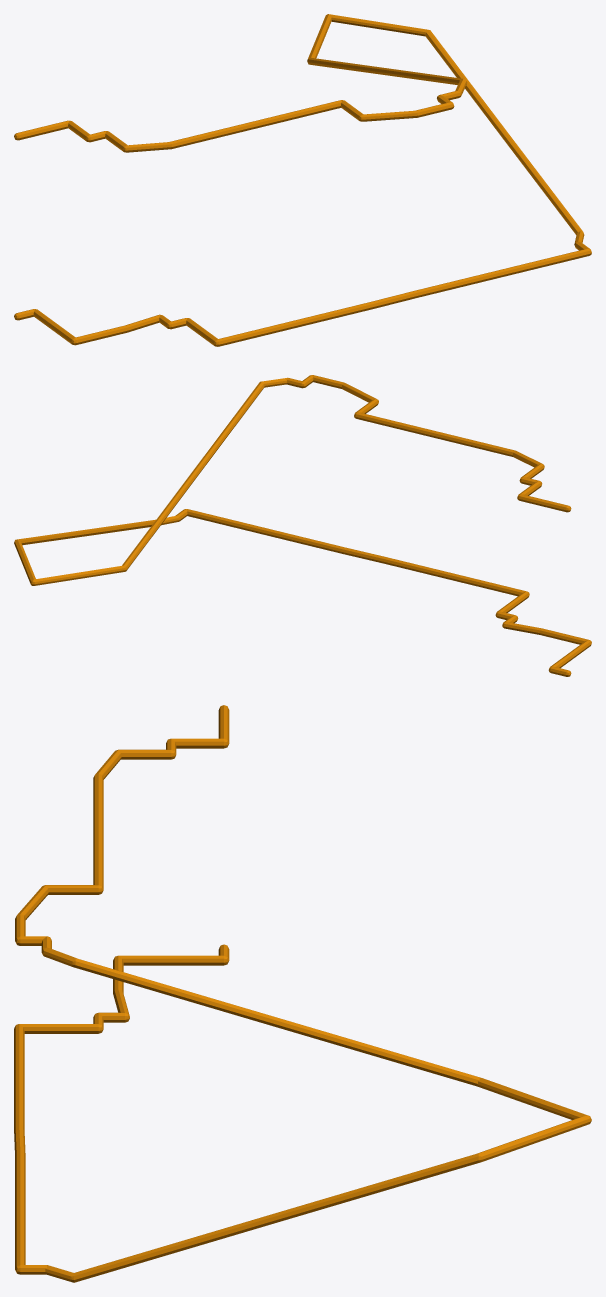
3 renders of one model, top to bottom at view 1: azimuth 30°, elevation 25°; view 2: azimuth 150°, elevation 25°; view 3: azimuth 270°, elevation 25°, orthographic. The views are drawn at different scales.
Bounding box in the file's own units: 1492 × 520 × 1094.
